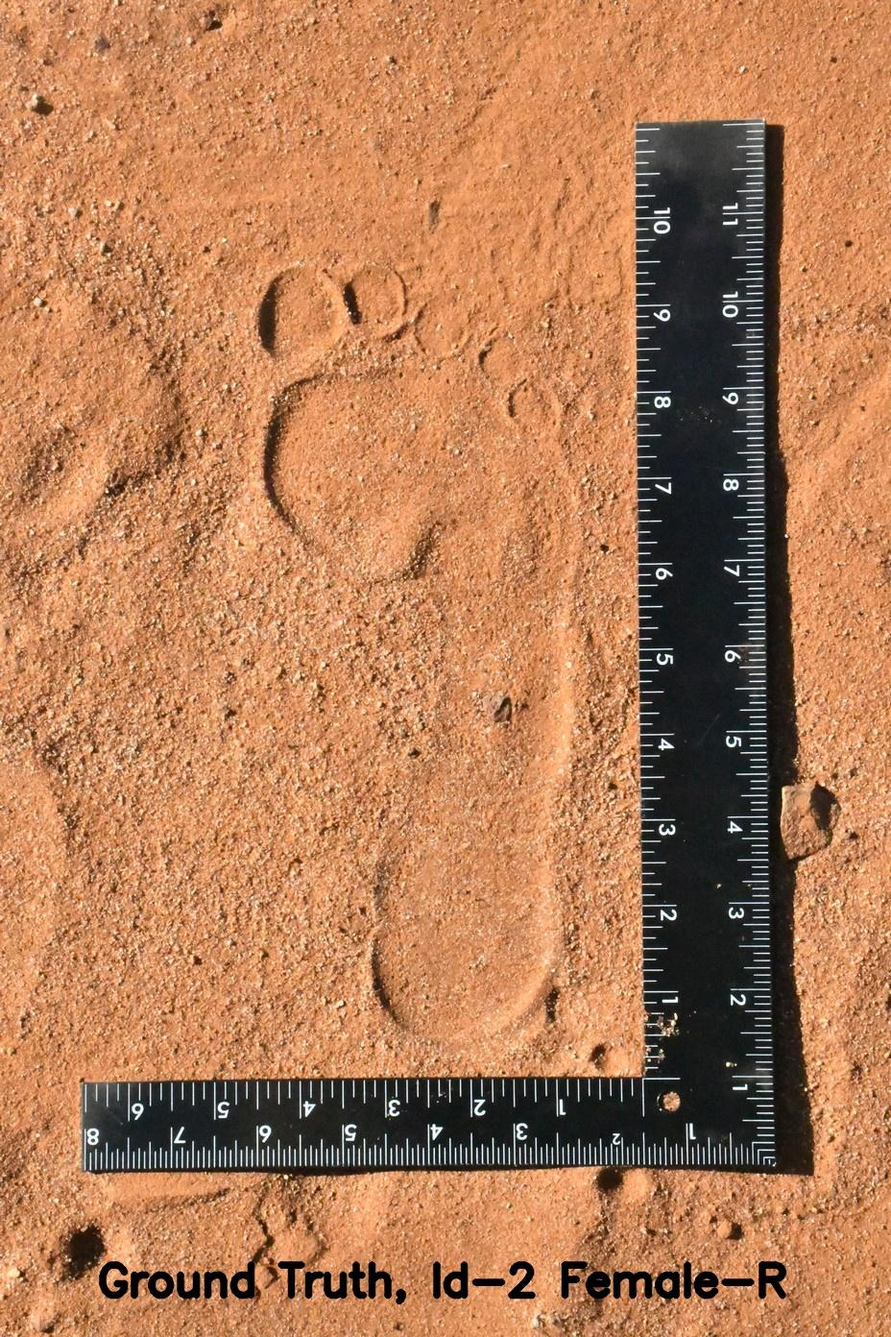human_foot_print: (225, 206, 615, 1047)
